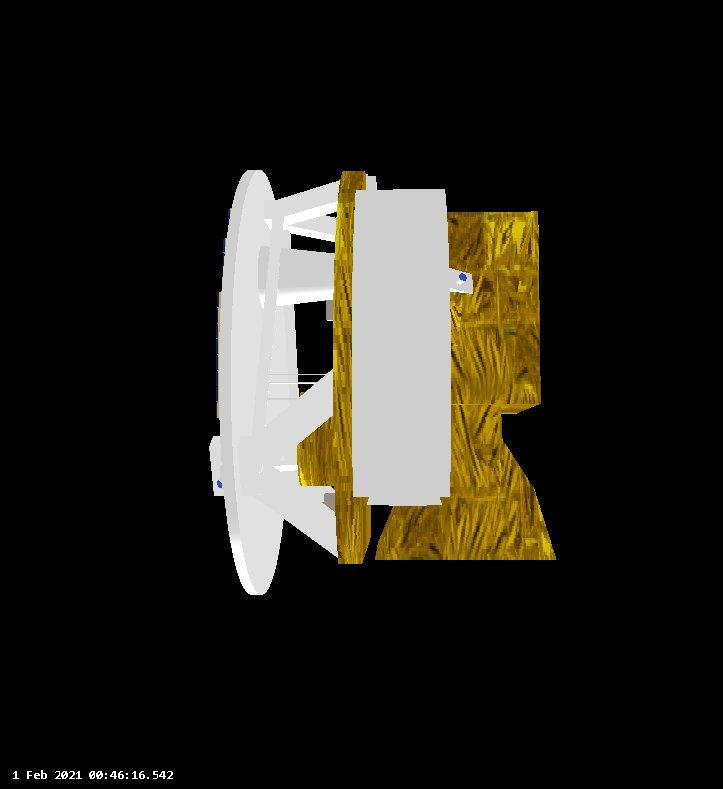antenna: (213, 159, 296, 599)
body: (352, 183, 548, 440)
thruster: (370, 405, 566, 564), (455, 270, 471, 287)
